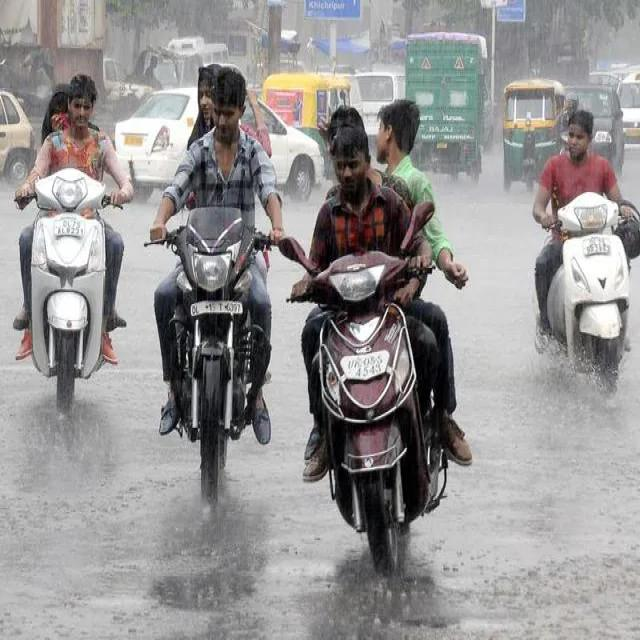Not Wearing Helmet: (211, 85, 289, 192), (30, 75, 119, 158), (332, 132, 377, 265)
